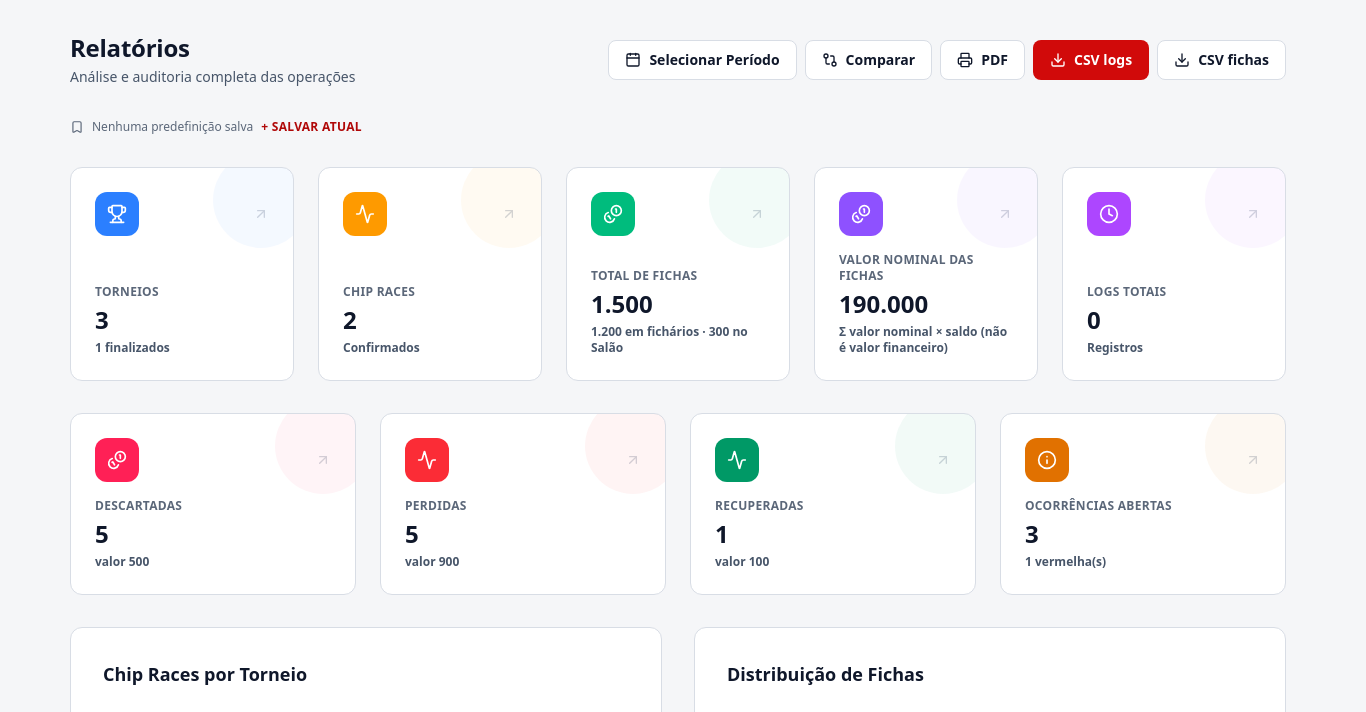
Relatorios (G10) › comparativo mostra o material por torneio (enviado, descartado, perdido, quebra)
The width and height of the screenshot is (1366, 712).
Click the button "Comparar" at point(868, 60), box [805, 40, 932, 80]
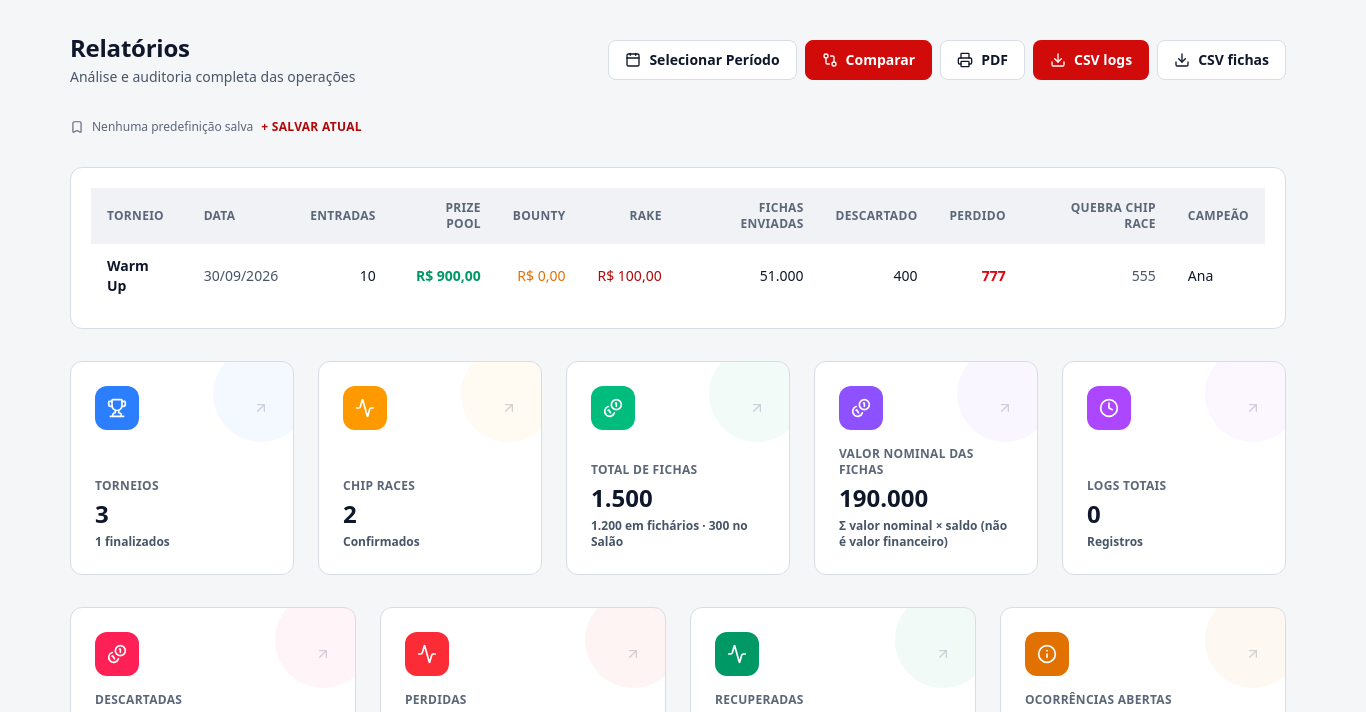
Now the text "Fichas enviadas" is shown, box [678, 188, 820, 244]
Now the text "Descartado" is shown, box [820, 188, 934, 244]
Now the text "Perdido" is shown, box [934, 188, 1022, 244]
